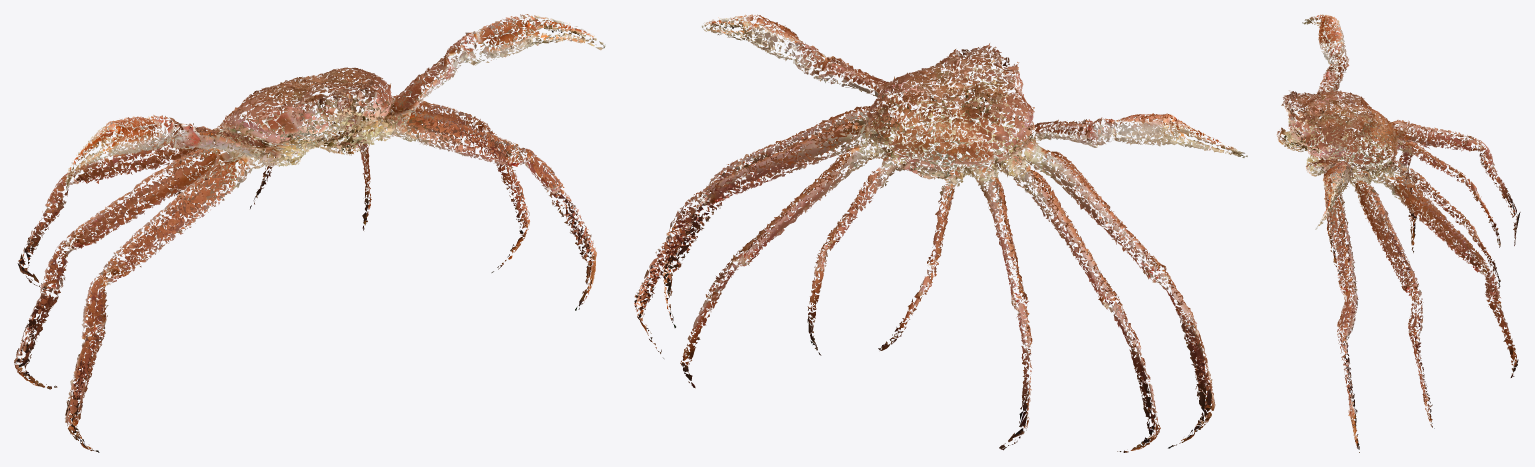
Rendered from crab.glb.
The picture shows the model from 3 angles, left to right: view 1: azimuth 30°, elevation 25°; view 2: azimuth 150°, elevation 25°; view 3: azimuth 270°, elevation 25°; orthographic projection. The views are drawn at different scales.
Parts seen in each view (by area): view 1: Object_11, Object_6, Object_12, Object_7, Object_13, Object_8, Object_14, Object_9, Object_15, Object_10; view 2: Object_7, Object_11, Object_12, Object_6, Object_13, Object_8, Object_10, Object_14, Object_15, Object_9, Object_16; view 3: Object_7, Object_12, Object_13, Object_6, Object_8, Object_10, Object_11, Object_14, Object_15, Object_9, Object_16.
Boxes of the visible parts, x1,y1,x2,y2 form: Object_11: [14, 16, 605, 452]; Object_6: [17, 14, 603, 443]; Object_12: [23, 16, 605, 432]; Object_7: [25, 14, 593, 443]; Object_13: [23, 18, 592, 441]; Object_8: [27, 15, 590, 375]; Object_14: [17, 17, 594, 438]; Object_9: [20, 78, 423, 429]; Object_15: [131, 77, 592, 293]; Object_10: [250, 90, 590, 284]; Object_7: [648, 14, 1211, 432]; Object_11: [634, 15, 1239, 452]; Object_12: [648, 18, 1207, 445]; Object_6: [641, 14, 1247, 452]; Object_13: [639, 22, 1210, 446]; Object_8: [666, 22, 1181, 442]; Object_10: [634, 139, 935, 387]; Object_14: [646, 22, 1211, 430]; Object_15: [634, 48, 1142, 388]; Object_9: [871, 43, 1223, 445]; Object_16: [637, 25, 1124, 364]; Object_7: [1277, 41, 1516, 441]; Object_12: [1281, 29, 1517, 413]; Object_13: [1278, 41, 1515, 445]; Object_6: [1296, 14, 1516, 452]; Object_8: [1276, 57, 1514, 409]; Object_10: [1338, 142, 1518, 435]; Object_11: [1284, 14, 1520, 449]; Object_14: [1280, 49, 1511, 409]; Object_15: [1288, 37, 1514, 440]; Object_9: [1278, 24, 1514, 237]; Object_16: [1289, 119, 1513, 430].
Size of the model in its own units: 0.6131 by 0.3512 by 0.2937.
Materials: 2 (2 with a texture image).
